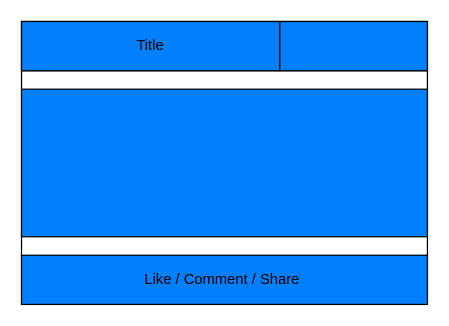
Image size: 449x326. Some labels were removed from this diagram. Here are the shapes that lost their labels. From the top down, the centre of each, then its label:
At (353,45): "Author / Date".
At (223,162): "Content".
